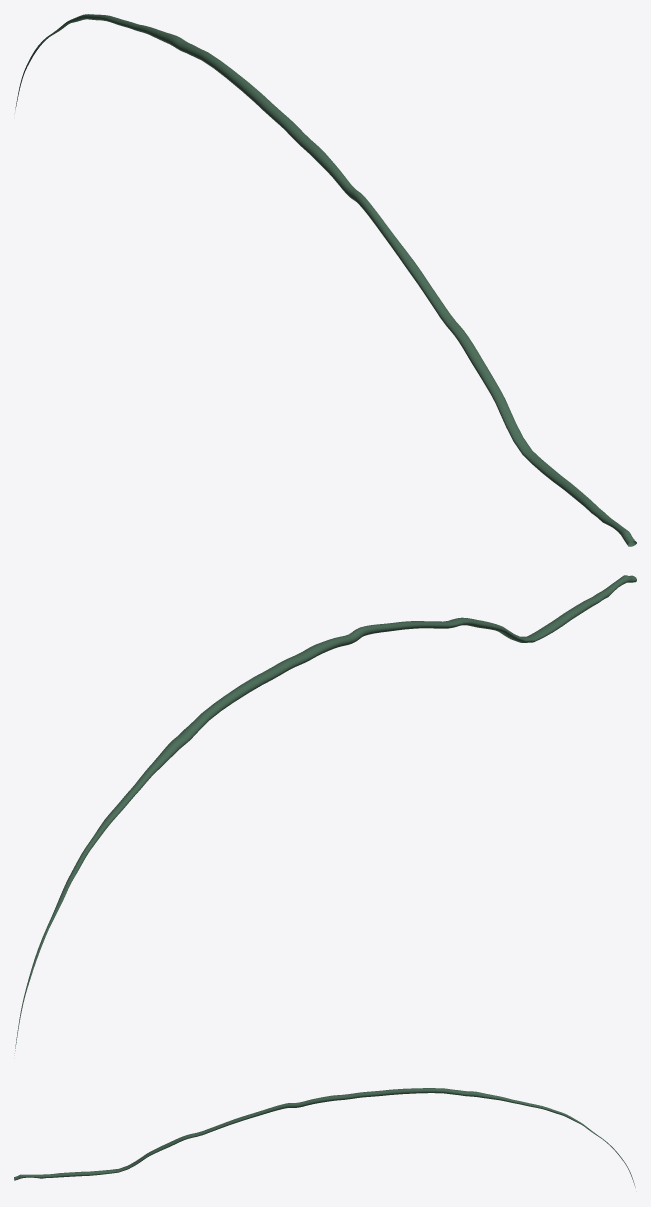
File: medulla spinalis.fbx
3 renders of one model, top to bottom at view 1: azimuth 30°, elevation 25°; view 2: azimuth 150°, elevation 25°; view 3: azimuth 270°, elevation 25°, orthographic. The views are drawn at different scales.
Visible parts, largest first — view 1: medulla spinalis; view 2: medulla spinalis; view 3: medulla spinalis.
Part boxes in pixels (<box>): medulla spinalis: <box>15,14,636,546</box>; medulla spinalis: <box>14,575,636,1053</box>; medulla spinalis: <box>14,1088,635,1187</box>.
Bounding box in the file's own units: 1.05 × 16.9 × 91.3.
